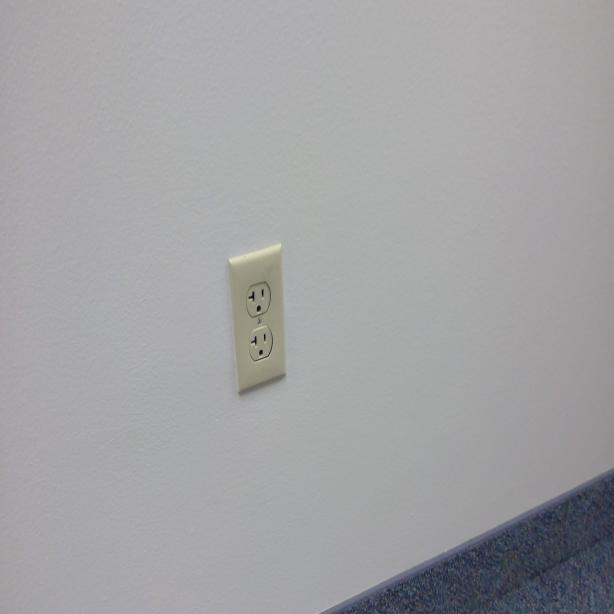typeb: (245, 284, 268, 316), (249, 327, 269, 360)
